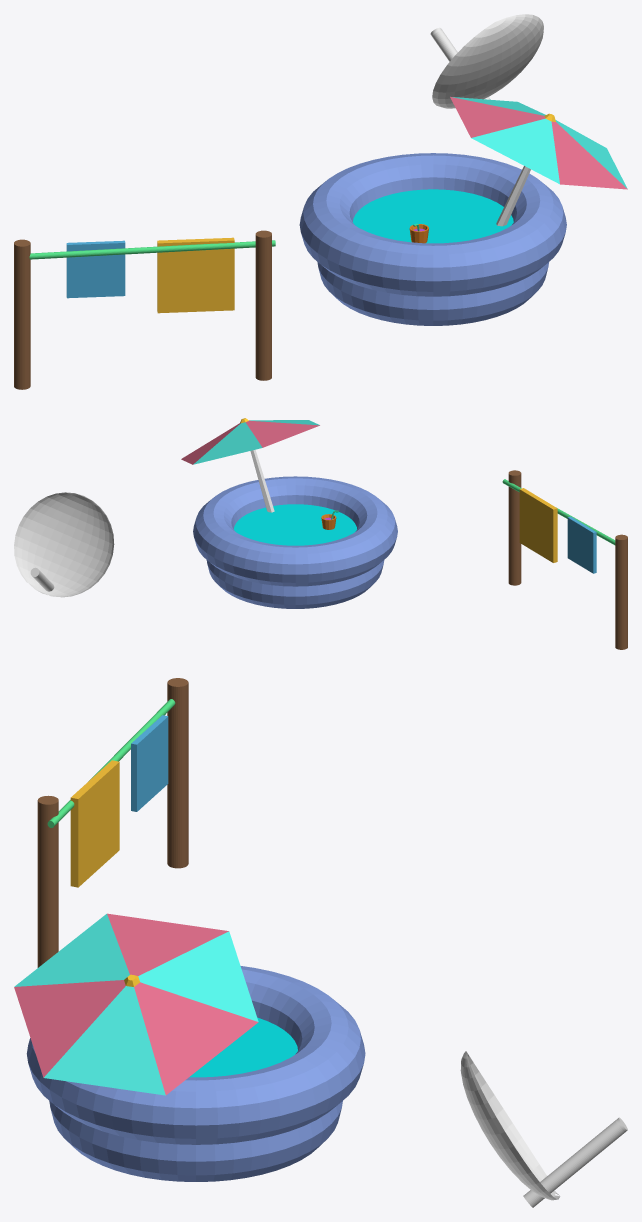
File: PrototipoLajeCaixaDaguablend.fbx
The picture shows the model from 3 angles, top to bottom: view 1: azimuth 30°, elevation 25°; view 2: azimuth 150°, elevation 25°; view 3: azimuth 270°, elevation 25°; orthographic projection. The views are drawn at different scales.
Parts seen in each view (by area): view 1: Torus.001, Cylinder.002, Sphere, Plane, Torus, Cube.005, Cylinder.001, Cube.006, Cylinder.003; view 2: Torus.001, Sphere, Plane, Torus, Cylinder.002, Cylinder.001, Cube.005, Cube.006, Cylinder.003; view 3: Cylinder.002, Torus.001, Torus, Cylinder.001, Sphere, Cube.005, Plane, Cube.006, Cylinder.003.
Part boxes in pixels (x1,y1,x2,y2): Torus.001: [299, 153, 566, 296]; Cylinder.002: [450, 96, 627, 226]; Sphere: [430, 14, 543, 108]; Plane: [353, 189, 513, 243]; Torus: [317, 262, 548, 325]; Cube.005: [157, 237, 234, 313]; Cylinder.001: [14, 230, 271, 389]; Cube.006: [66, 240, 125, 298]; Cylinder.003: [29, 240, 275, 259]; Torus.001: [193, 476, 397, 586]; Sphere: [14, 492, 114, 597]; Plane: [234, 504, 356, 545]; Torus: [206, 560, 384, 608]; Cylinder.002: [181, 418, 319, 512]; Cylinder.001: [508, 470, 627, 649]; Cube.005: [519, 488, 557, 562]; Cube.006: [567, 516, 596, 573]; Cylinder.003: [502, 479, 615, 545]; Cylinder.002: [14, 913, 258, 1095]; Torus.001: [26, 966, 365, 1144]; Torus: [49, 1101, 342, 1181]; Cylinder.001: [37, 678, 188, 967]; Sphere: [460, 1051, 627, 1207]; Cube.005: [70, 760, 119, 887]; Plane: [189, 1017, 297, 1077]; Cube.006: [131, 715, 168, 811]; Cylinder.003: [47, 699, 175, 827].
Bounding box in the file's own units: 1982 × 554 × 1257.
